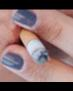Cigarette: (19, 28, 48, 64)
